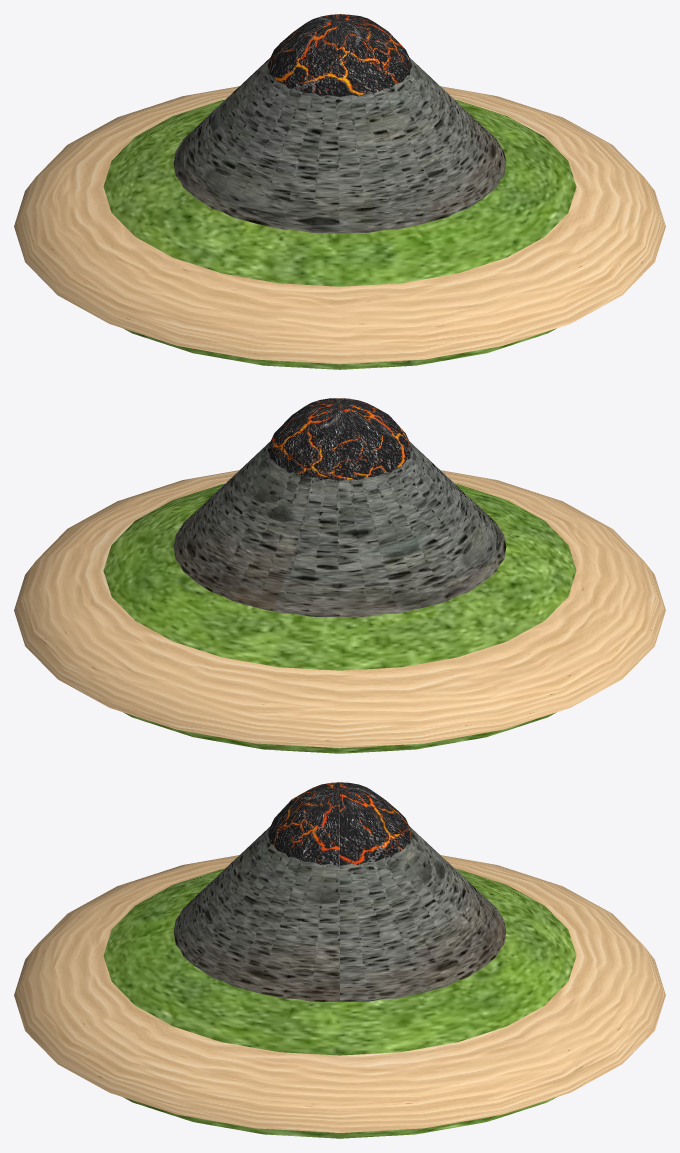
Rendered from Остров.fbx.
3 views of the same model, one above another, from view 1: azimuth 30°, elevation 25°; view 2: azimuth 150°, elevation 25°; view 3: azimuth 270°, elevation 25° (orthographic).
Visible parts, largest first — view 1: Булев_1, Объект_Сфера_1, Булев; view 2: Булев_1, Объект_Сфера_1, Булев; view 3: Булев_1, Объект_Сфера_1, Булев.
Boxes of the visible parts, x1,y1,x2,y2 form: Булев_1: (14,86,665,364); Объект_Сфера_1: (173,14,506,233); Булев: (103,99,576,369); Булев_1: (14,470,665,748); Объект_Сфера_1: (173,398,506,617); Булев: (103,483,576,753); Булев_1: (14,855,665,1132); Объект_Сфера_1: (173,782,506,1001); Булев: (103,868,576,1138).
Size of the model in its own units: 829 by 315 by 829.
Materials: 4 (4 with a texture image).
